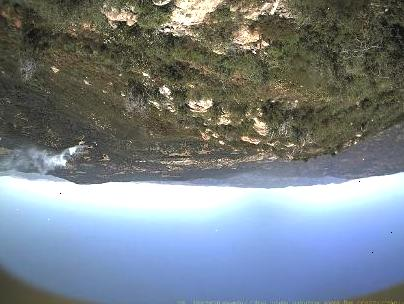smoke: (0, 141, 88, 180)
